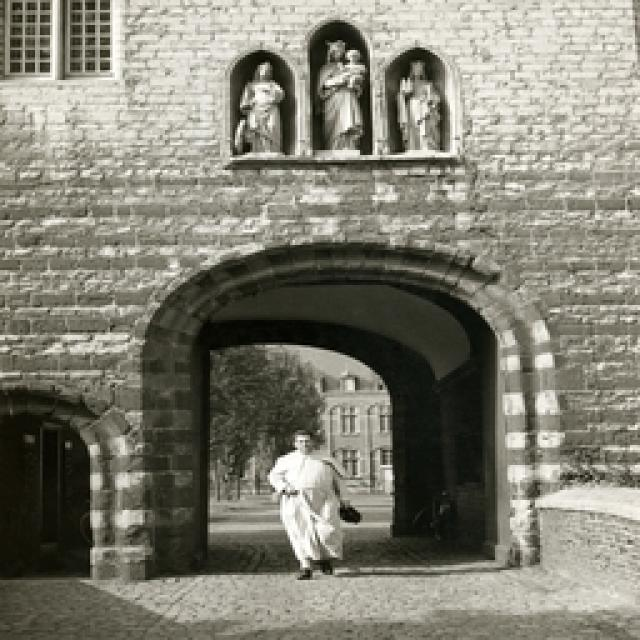Abbey: (131, 216, 590, 570)
